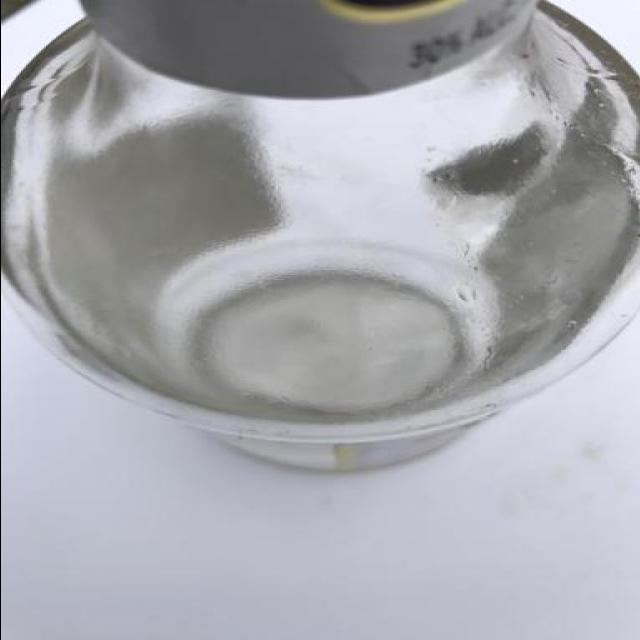Glass Bottle: (2, 1, 640, 481)
